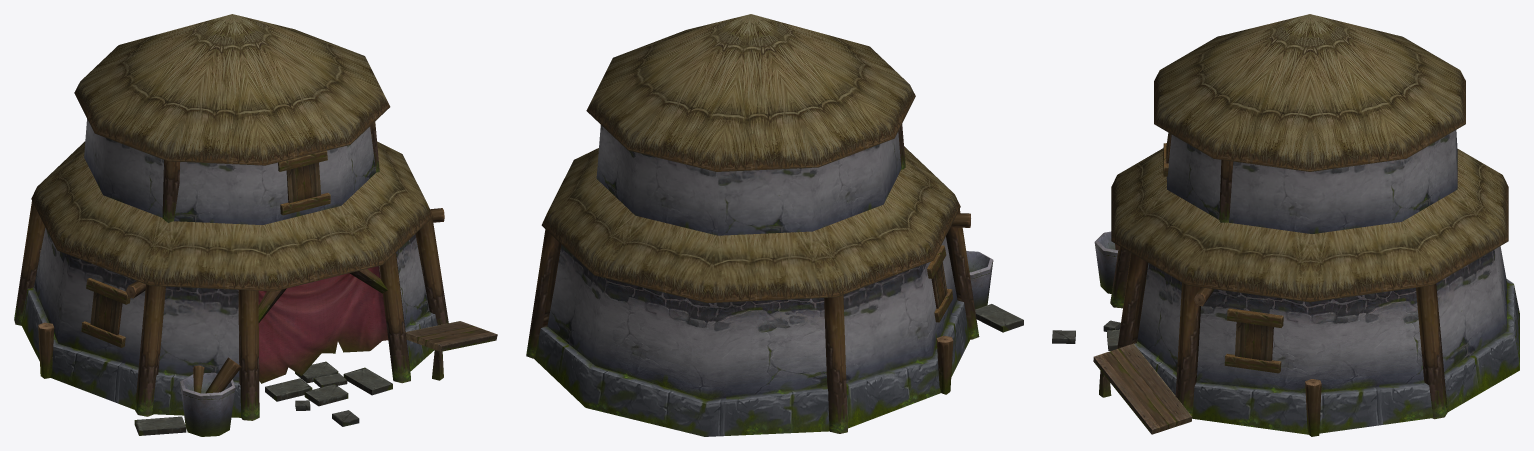
Rendered from building_yewai_xiaomaowu02.FBX.
3 renders of one model, left to right at view 1: azimuth 30°, elevation 25°; view 2: azimuth 150°, elevation 25°; view 3: azimuth 270°, elevation 25°, orthographic. The views are drawn at different scales.
Visible parts, largest first — view 1: building_yewai_xiaomaowu02; view 2: building_yewai_xiaomaowu02; view 3: building_yewai_xiaomaowu02.
Boxes of the visible parts, x1=… form: building_yewai_xiaomaowu02: x1=14, y1=14, x2=497, y2=436; building_yewai_xiaomaowu02: x1=526, y1=14, x2=1023, y2=436; building_yewai_xiaomaowu02: x1=1052, y1=14, x2=1519, y2=436.
Bounding box in the file's own units: 13.78 × 10.92 × 14.03.
